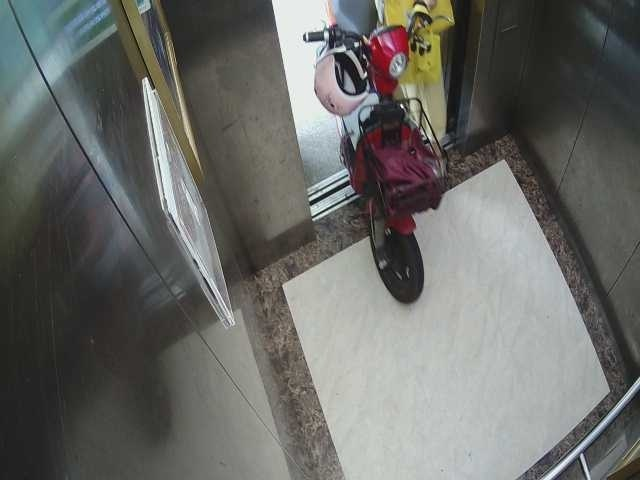emotor: (291, 2, 457, 300)
